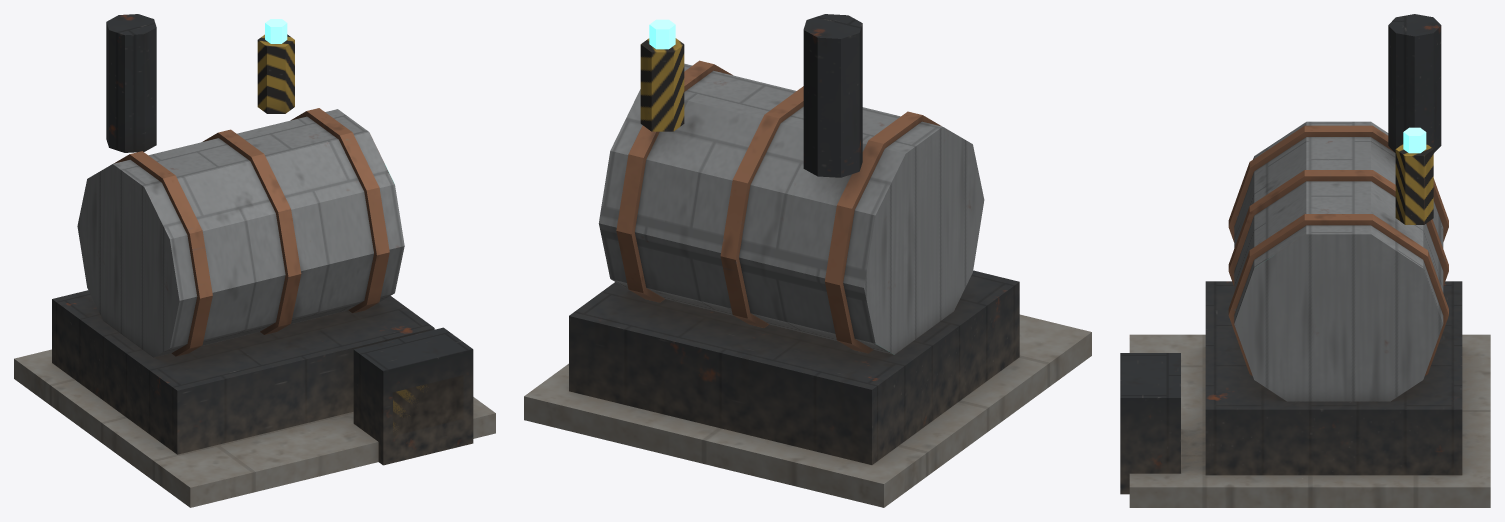
The model's file is gerador.glb.
The picture shows the model from 3 angles, left to right: view 1: azimuth 30°, elevation 25°; view 2: azimuth 150°, elevation 25°; view 3: azimuth 270°, elevation 25°; orthographic projection. The views are drawn at different scales.
Parts seen in each view (by area): view 1: gerador; view 2: gerador; view 3: gerador.
Part boxes in pixels (x1,y1,x2,y2): gerador: (14, 14, 495, 507); gerador: (524, 14, 1091, 507); gerador: (1120, 14, 1490, 507).
Bounding box in the file's own units: 1.9 × 2.15 × 1.95.
Materials: 2 (1 with a texture image).
